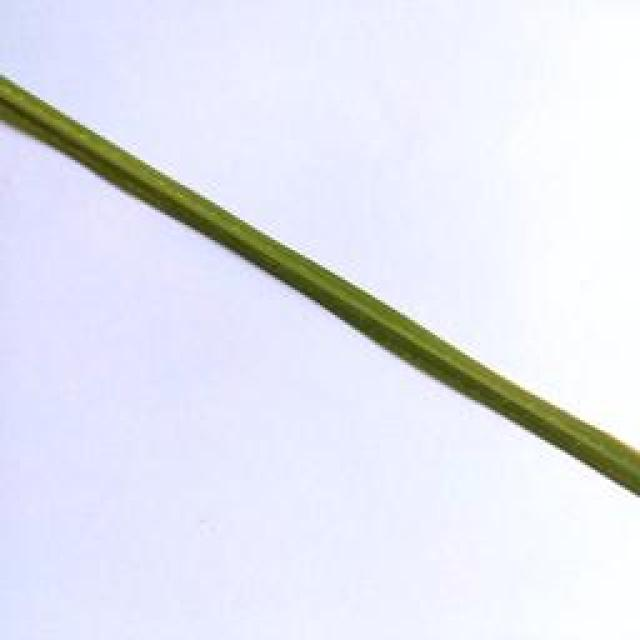Healthy-Plant: (0, 75, 640, 498)
